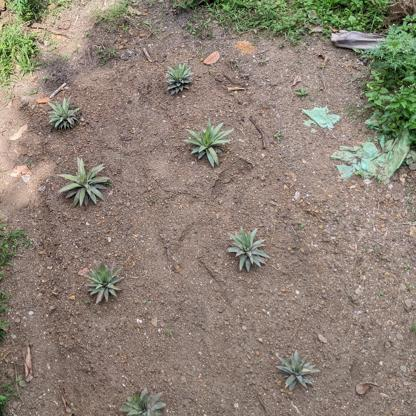pineapple: (56, 155, 113, 211), (184, 119, 237, 174), (221, 223, 275, 276), (274, 349, 324, 399), (80, 263, 126, 307), (42, 94, 83, 136), (116, 384, 166, 416), (163, 62, 197, 101)
